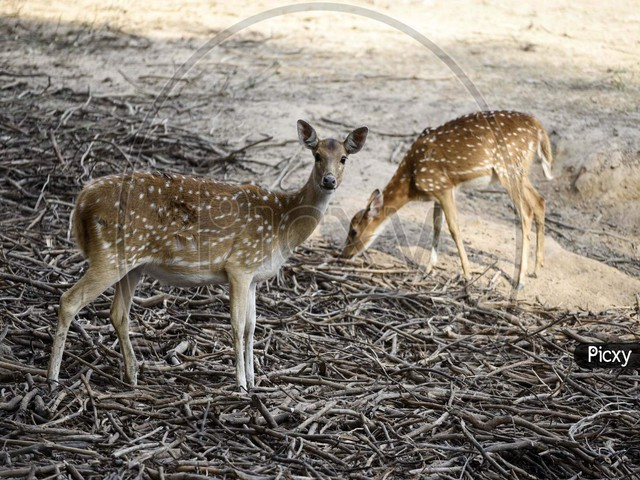deer: (48, 117, 374, 427), (366, 96, 558, 290)
